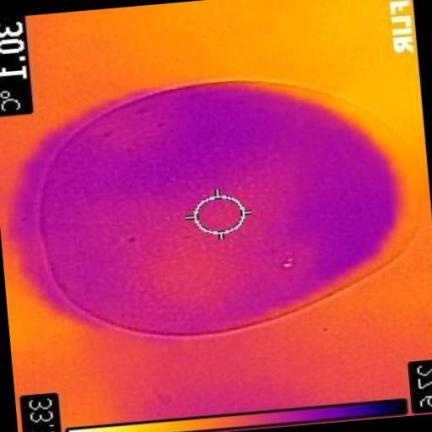mango: (40, 81, 425, 333)
